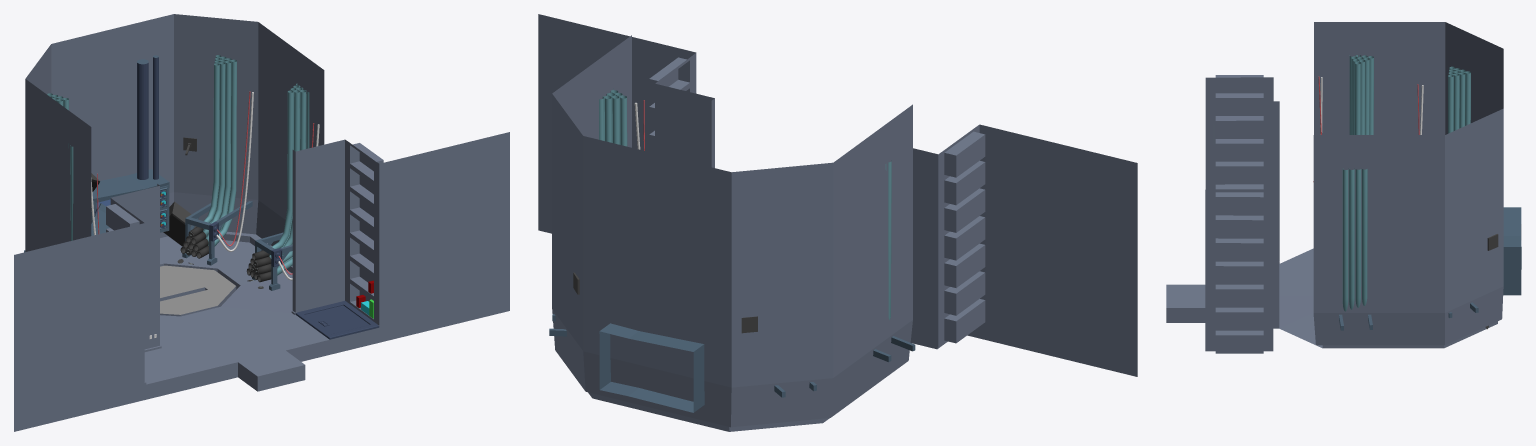
The model's file is testareascene.fbx.
The picture shows the model from 3 angles, left to right: view 1: azimuth 30°, elevation 25°; view 2: azimuth 150°, elevation 25°; view 3: azimuth 270°, elevation 25°; orthographic projection. The views are drawn at different scales.
Parts seen in each view (by area): view 1: Plane, Cylinder.004, Cube.009, Cylinder.007, Cube.002, Cube.012, Cube.007, Cylinder.001; view 2: Plane, Cube.009, Cylinder.007, Cylinder.009; view 3: Plane, Cylinder.007, Cylinder.009, Cube.009, Cylinder.002.
Part boxes in pixels (bbox=[...]): Plane: bbox=[14, 14, 509, 431]; Cylinder.004: bbox=[180, 55, 236, 258]; Cube.009: bbox=[91, 55, 169, 235]; Cylinder.007: bbox=[246, 83, 309, 282]; Cube.002: bbox=[182, 201, 252, 265]; Cube.012: bbox=[163, 201, 196, 246]; Cube.007: bbox=[252, 232, 292, 290]; Cylinder.001: bbox=[216, 92, 253, 251]; Plane: bbox=[538, 14, 1137, 431]; Cube.009: bbox=[599, 323, 704, 412]; Cylinder.007: bbox=[599, 89, 627, 146]; Cylinder.009: bbox=[885, 160, 891, 319]; Plane: bbox=[1166, 22, 1503, 353]; Cylinder.007: bbox=[1342, 168, 1367, 311]; Cylinder.009: bbox=[1349, 55, 1373, 134]; Cube.009: bbox=[1503, 207, 1521, 295]; Cylinder.002: bbox=[1448, 66, 1470, 133].
Size of the model in its own units: 4967 by 2235 by 3086.
